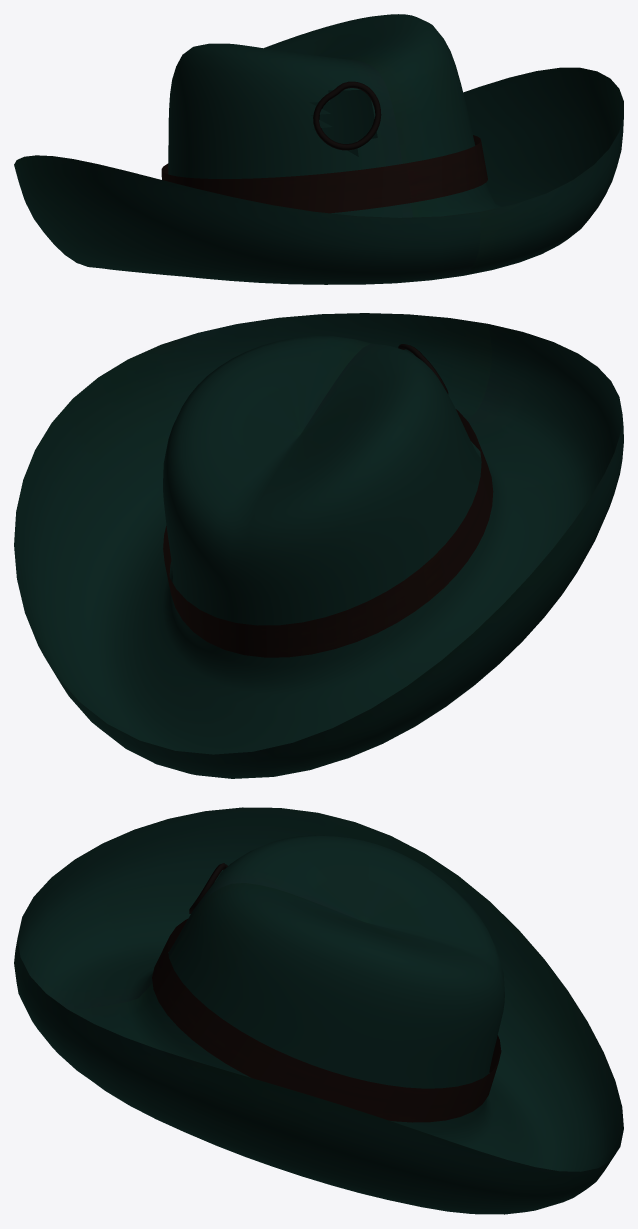
File: hat.holed-stetson.glb
3 views of the same model, one above another, from view 1: azimuth 30°, elevation 25°; view 2: azimuth 150°, elevation 25°; view 3: azimuth 270°, elevation 25° (orthographic). The views are drawn at different scales.
Visible parts, largest first — view 1: Head; view 2: Head; view 3: Head.
Part boxes in pixels (left/top/right/bottom): Head: left=14, top=14, right=623, bottom=284; Head: left=14, top=313, right=623, bottom=778; Head: left=14, top=807, right=623, bottom=1214.
Bounding box in the file's own units: 0.3861 × 0.2174 × 0.3984.
Materials: 1 (1 with a texture image).
